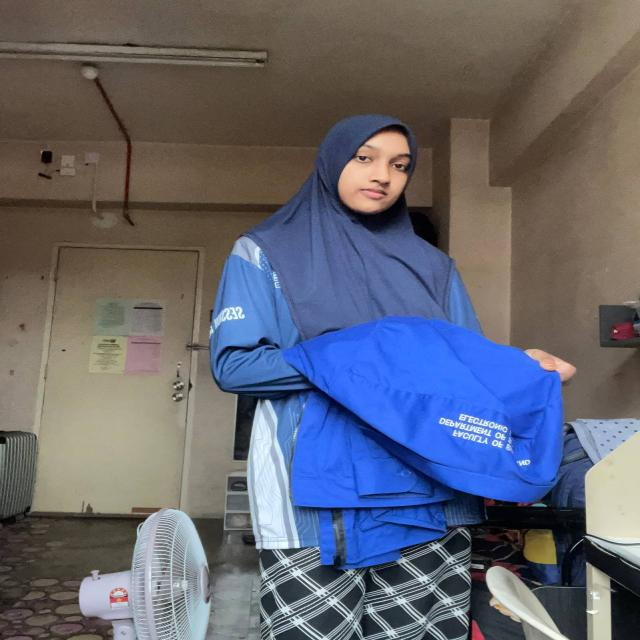person_without_labcoat: (209, 114, 574, 640)
